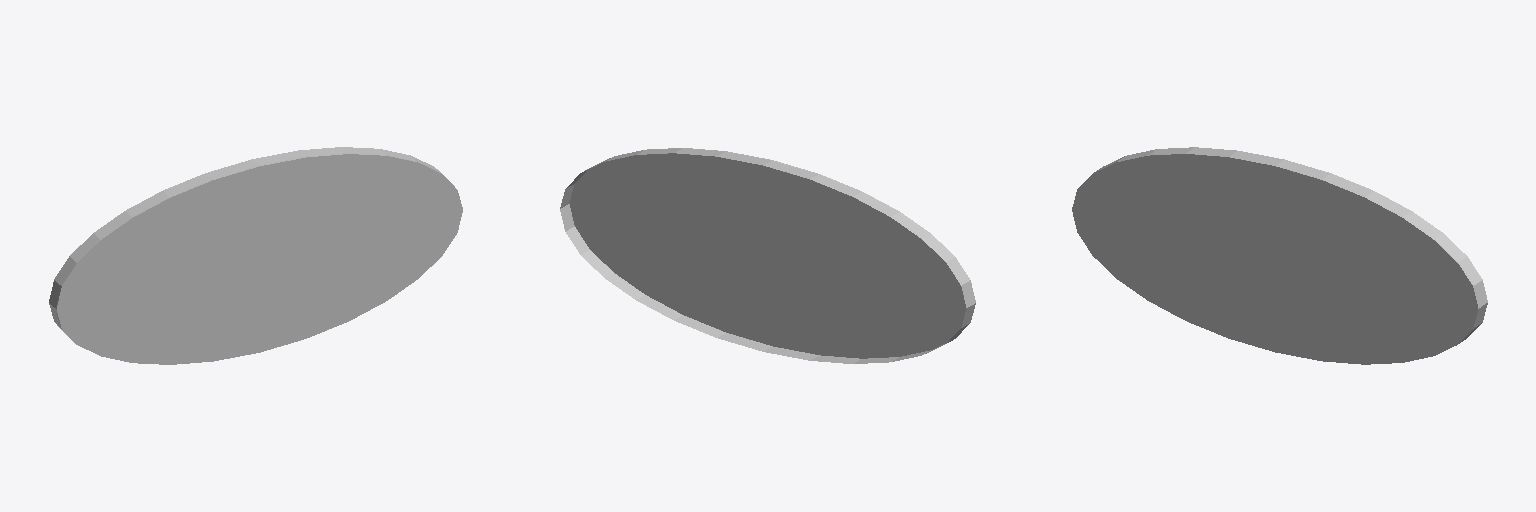
The model's file is margine_lac.obj.
3 views of the same model, side by side, from view 1: azimuth 30°, elevation 25°; view 2: azimuth 150°, elevation 25°; view 3: azimuth 330°, elevation 25° (orthographic).
Visible parts, largest first — view 1: Ellipse03; view 2: Ellipse03; view 3: Ellipse03.
Boxes of the visible parts, <box> form: Ellipse03: <box>49,147,462,364</box>; Ellipse03: <box>560,148,975,363</box>; Ellipse03: <box>1072,147,1487,364</box>.
Size of the model in its own units: 6539 by 2865 by 239.